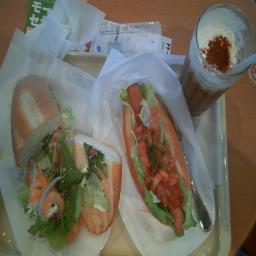hotdog: (9, 71, 105, 247), (119, 77, 200, 241)
